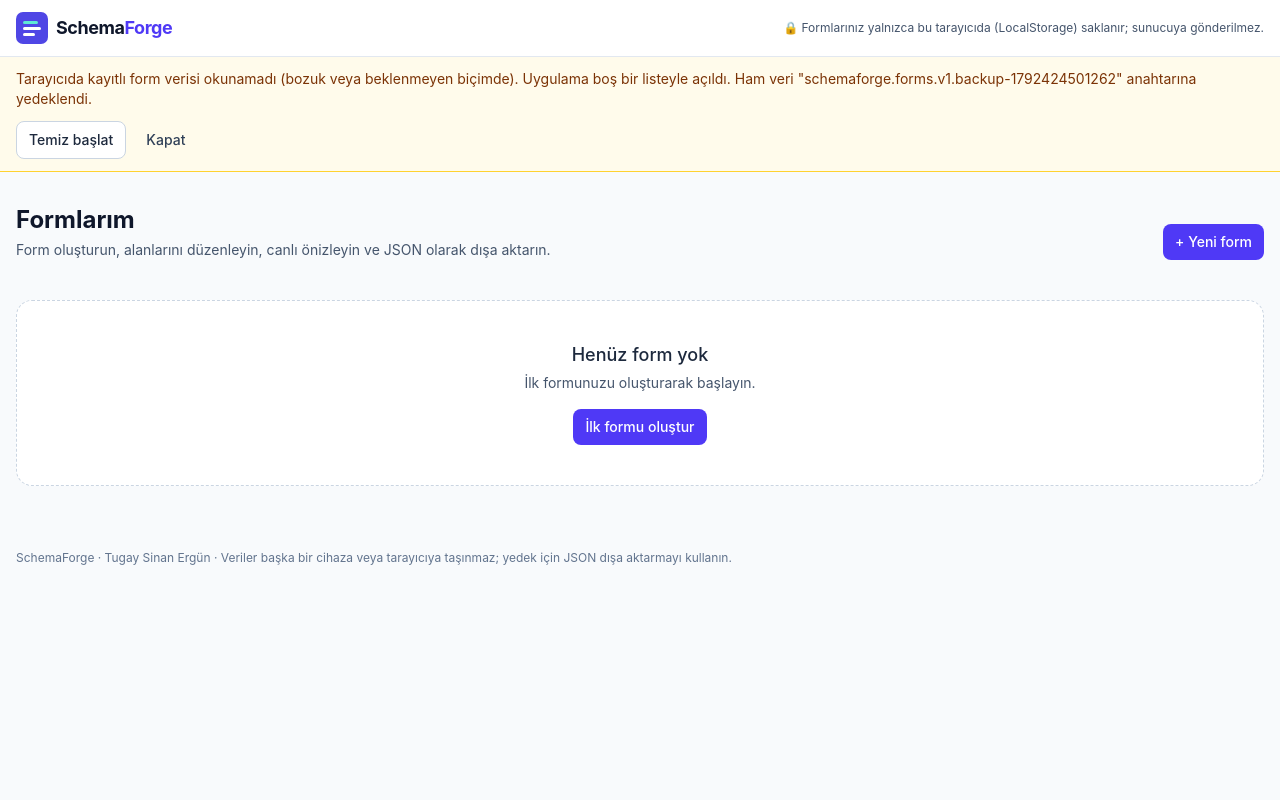
Test: SchemaForge user scenarios › 11a. corrupt LocalStorage does not crash the app; it reports and can start clean
Expected: the message shows "okunamadı", [16,70,731,87]
Expected: the text "Henüz form yok" is shown, [572,344,708,365]
Click the button "Temiz başlat" at (71, 140), box [16,121,126,159]
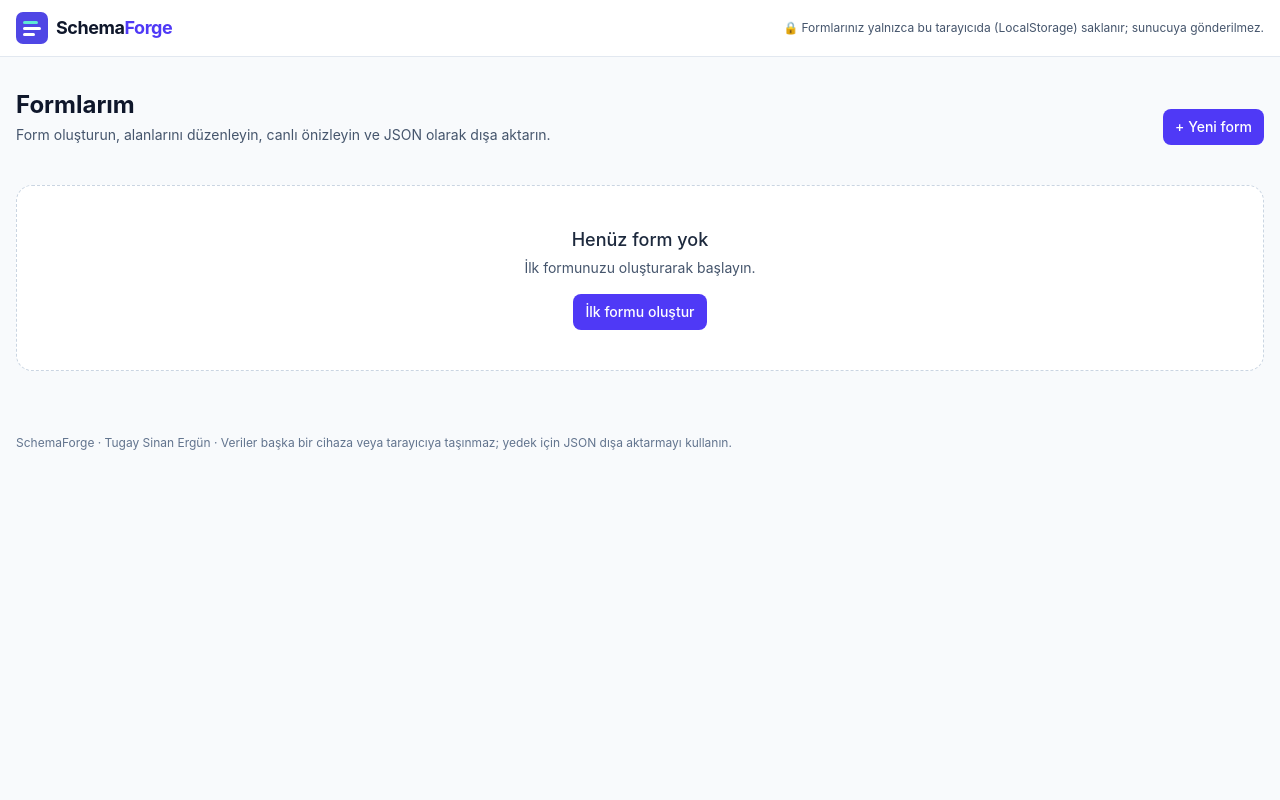
Result: the message is gone
